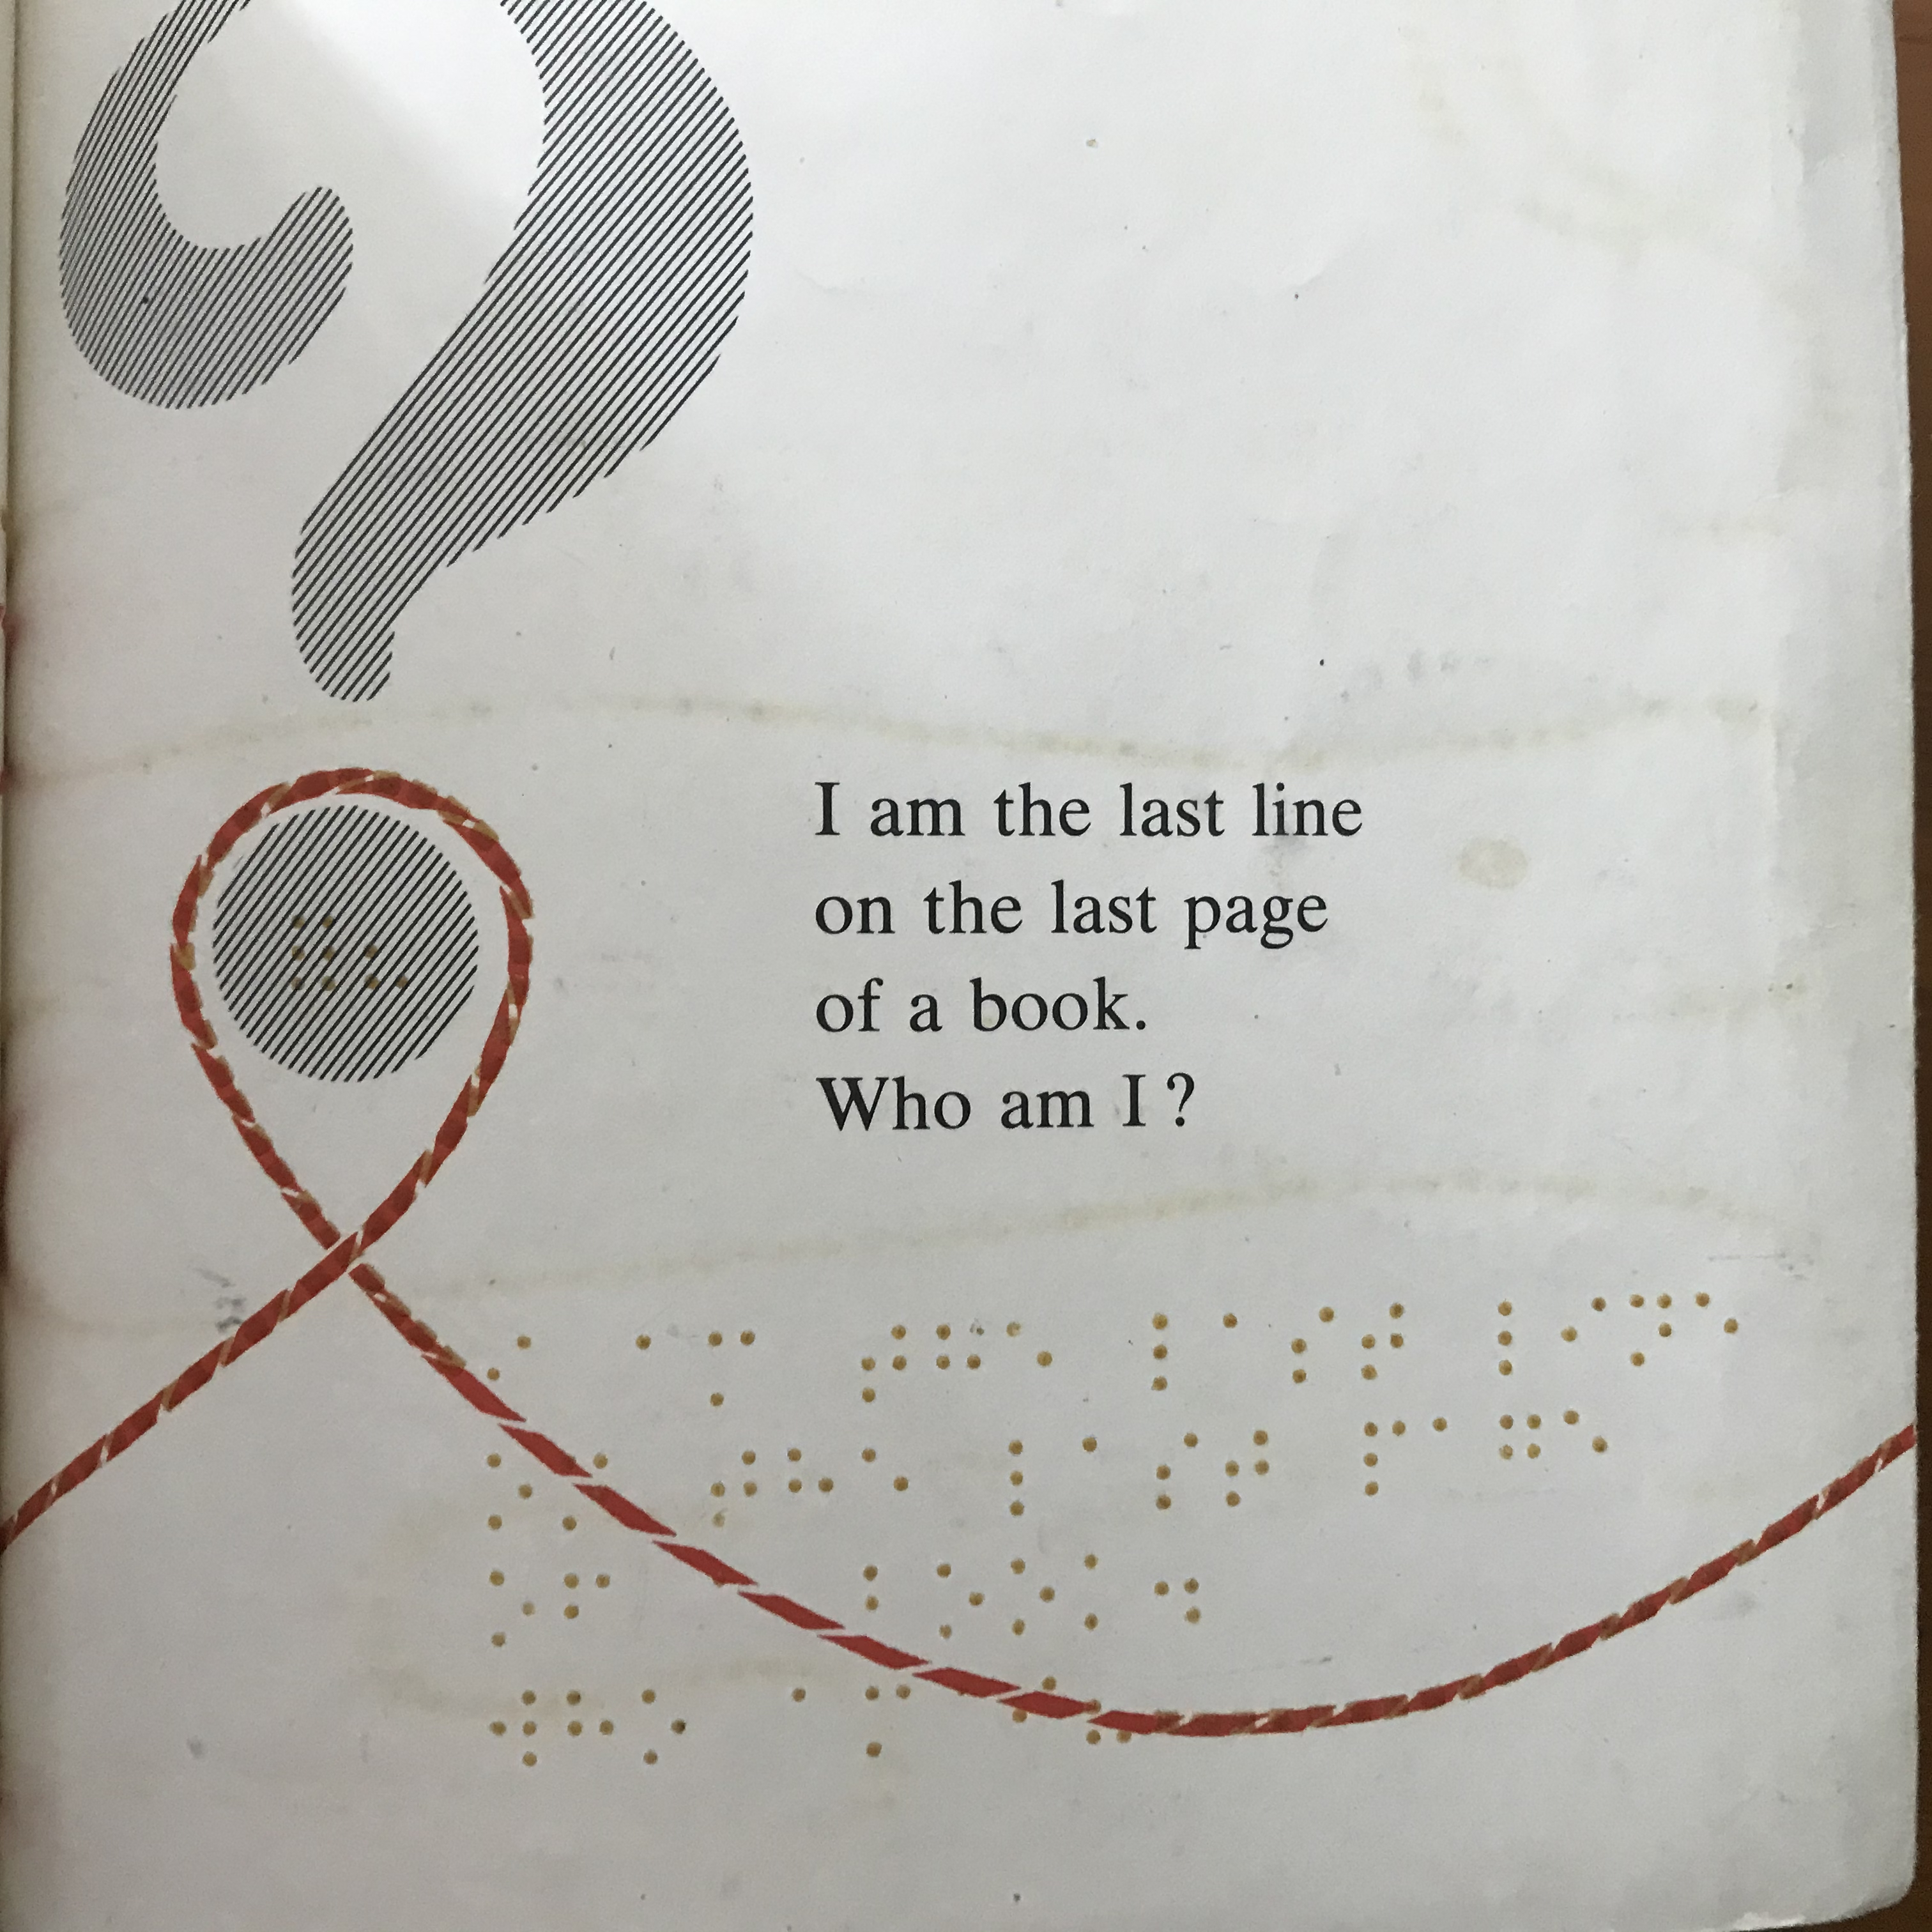Braille: (359, 909, 414, 1003), (479, 1449, 534, 1536), (290, 904, 338, 1001), (706, 1325, 759, 1412), (1559, 1290, 1608, 1382), (630, 1325, 681, 1414), (1359, 1297, 1410, 1385), (856, 1318, 909, 1403), (1628, 1290, 1675, 1384), (938, 1559, 987, 1649), (490, 1681, 540, 1771), (639, 1683, 688, 1773), (485, 1568, 538, 1651), (1698, 1286, 1744, 1382), (711, 1445, 761, 1534), (566, 1683, 616, 1771), (1221, 1306, 1272, 1391), (931, 1322, 984, 1403), (787, 1444, 835, 1534), (863, 1679, 915, 1762), (1290, 1299, 1336, 1391), (860, 1444, 909, 1529), (1005, 1437, 1054, 1522), (1497, 1290, 1543, 1380), (1150, 1307, 1198, 1394), (1566, 1405, 1614, 1491), (563, 1568, 612, 1651), (1010, 1557, 1060, 1640), (1362, 1415, 1410, 1500), (1081, 1548, 1129, 1633), (563, 1454, 612, 1536), (1079, 1431, 1125, 1518), (1007, 1320, 1054, 1403), (1224, 1428, 1272, 1511), (1157, 1428, 1201, 1516), (1500, 1412, 1546, 1497), (1016, 1677, 1062, 1760), (1086, 1674, 1134, 1752), (863, 1564, 908, 1647), (1155, 1559, 1203, 1635), (1428, 1410, 1472, 1491), (787, 1679, 832, 1760), (485, 1327, 531, 1405)
